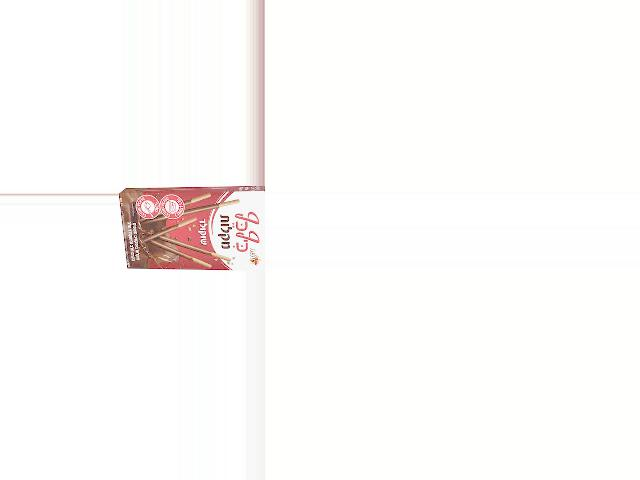chocolate: (128, 187, 264, 271)
